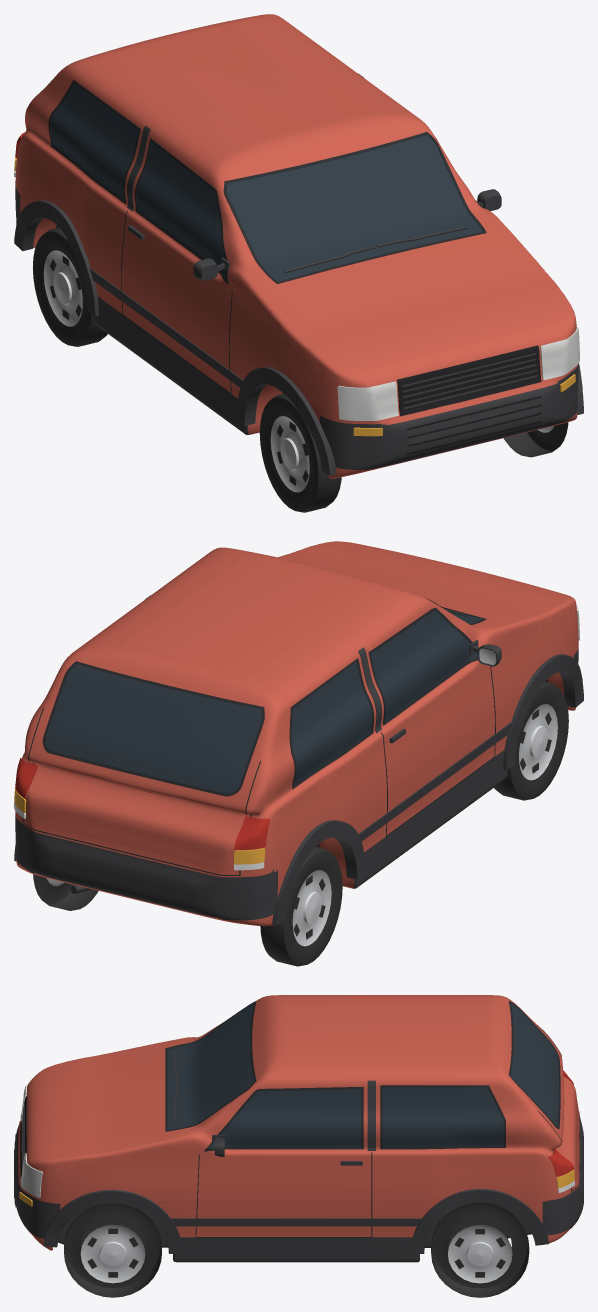
Rendered from panda4x4.glb.
3 renders of one model, top to bottom at view 1: azimuth 30°, elevation 25°; view 2: azimuth 150°, elevation 25°; view 3: azimuth 270°, elevation 25°, orthographic. The views are drawn at different scales.
Visible parts, largest first — view 1: paint, glass, trim, wheel_fr, wheel_rr, headlights, wheel_fl; view 2: paint, glass, trim, wheel_rr, wheel_fr, taillights, wheel_rl; view 3: paint, glass, trim, wheel_rl, wheel_fl, headlights, taillights.
Part boxes in pixels (box(x1,y1,x2,y2)): paint: box(15, 14, 578, 478); glass: box(50, 83, 482, 281); trim: box(14, 73, 583, 475); wheel_fr: box(259, 394, 341, 512); wheel_rr: box(32, 227, 107, 346); headlights: box(337, 327, 579, 420); wheel_fl: box(503, 422, 568, 457); paint: box(15, 541, 578, 926); glass: box(45, 609, 482, 793); trim: box(14, 595, 583, 924); wheel_rr: box(260, 847, 342, 966); wheel_fr: box(494, 681, 568, 800); taillights: box(15, 758, 270, 849); wheel_rl: box(33, 874, 98, 910); paint: box(14, 995, 583, 1262); glass: box(167, 1003, 559, 1148); trim: box(14, 1001, 579, 1253); wheel_rl: box(431, 1202, 529, 1297); wheel_fl: box(64, 1203, 161, 1297); headlights: box(20, 1083, 42, 1197); taillights: box(548, 1070, 574, 1176).
Bounding box in the file's own units: 1.68 × 1.45 × 3.37.
